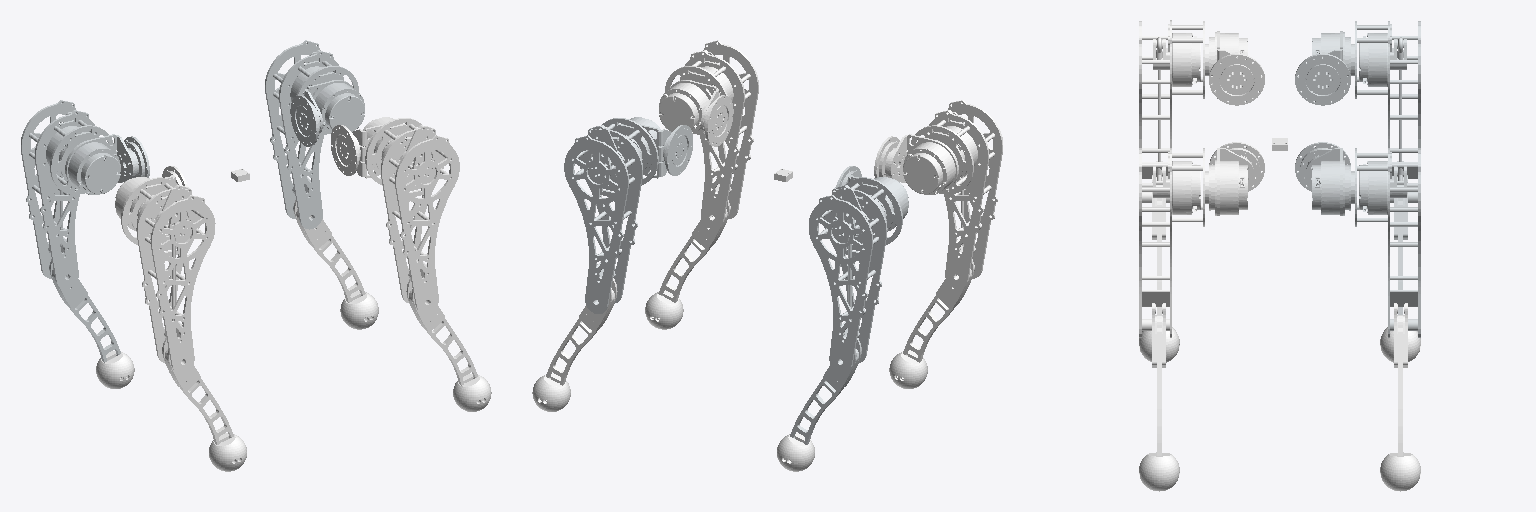
The robot description file, URDF, robot "newdog3":
<?xml version="1.0" encoding="utf-8"?>
<!-- This URDF was automatically created by SolidWorks to URDF Exporter! Originally created by Stephen Brawner (brawner@gmail.com) 
     Commit Version: 1.6.0-4-g7f85cfe  Build Version: 1.6.7995.38578
     For more information, please see http://wiki.ros.org/sw_urdf_exporter -->
<robot
  name="newdog3">
  <link
    name="base_link">
    <inertial>
      <origin
        xyz="3.33066907387547E-16 -1.52308721190764E-15 8.67361737988404E-19"
        rpy="0 0 0" />
      <mass
        value="0.001" />
      <inertia
        ixx="0.0000000"
        ixy="0.0000000"
        ixz="0.0000000"
        iyy="0.0000000"
        iyz="0.0000000"
        izz="0.0000000" />
    </inertial>
    <visual>
      <origin
        xyz="0 0 0"
        rpy="0 0 0" />
      <geometry>
        <mesh
          filename="package://newdog3/meshes/base_link.STL" />
      </geometry>
      <material
        name="">
        <color
          rgba="1 1 1 1" />
      </material>
    </visual>
    <collision>
      <origin
        xyz="0 0 0"
        rpy="0 0 0" />
      <geometry>
        <mesh
          filename="package://newdog3/meshes/base_link.STL" />
      </geometry>
    </collision>
  </link>
  <link
    name="trunk_link">
    <inertial>
      <origin
        xyz="-0.0009146 -0.0058859 -0.010167"
        rpy="0 0 0" />
      <mass
        value="4.6043039 " />
      <inertia
        ixx="0.0304155"
        ixy="-0.0001536"
        ixz="-0.0000979"
        iyy="0.0576475"
        iyz="0.0001516"
        izz="0.0768428" />
    </inertial>
    <visual>
      <origin
        xyz="0 0 0"
        rpy="0 0 0" />
      <geometry>
        <mesh
          filename="package://newdog3/meshes/trunk_link.STL" />
      </geometry>
      <material
        name="">
        <color
          rgba="0 1 1 1" />
      </material>
    </visual>
    <collision>
      <origin
        xyz="0 0 0"
        rpy="0 0 0" />
      <geometry>
        <mesh
          filename="package://newdog3/meshes/trunk_link.STL" />
      </geometry>
    </collision>
  </link>
  <joint
    name="trunk_joint"
    type="fixed">
    <origin
      xyz="0 0 0"
      rpy="0 0 0" />
    <parent
      link="base_link" />
    <child
      link="trunk_link" />
    <axis
      xyz="0 0 0" />
  </joint>
  <link
    name="FL_hip_link">
    <inertial>
      <origin
        xyz="-0.0276629050724061 0.016035850006281 -4.3485968049325E-05"
        rpy="0 0 0" />
      <mass
        value="1.0790672" />
      <inertia
        ixx="0.0008140"
        ixy="-0.0001481"
        ixz="-0.0000001"
        iyy="0.0015634"
        iyz="-0.0000034"
        izz="0.0013876" />
    </inertial>
    <visual>
      <origin
        xyz="0 0 0"
        rpy="0 0 0" />
      <geometry>
        <mesh
          filename="package://newdog3/meshes/FL_hip_link.STL" />
      </geometry>
      <material
        name="">
        <color
          rgba="0.898039215686275 0.917647058823529 0.929411764705882 1" />
      </material>
    </visual>
    <collision>
      <origin
        xyz="0 0 0"
        rpy="0 0 0" />
      <geometry>
        <mesh
          filename="package://newdog3/meshes/FL_hip_link.STL" />
      </geometry>
    </collision>
  </link>
  <joint
    name="FL_hip_joint"
    type="revolute">
    <origin
      xyz="0.219736600000002 0.0625499999999842 0"
      rpy="0 0 0" />
    <parent
      link="trunk_link" />
    <child
      link="FL_hip_link" />
    <axis
      xyz="1 0 0" />
    <limit
      lower="-3.14"
      upper="3.14"
      effort="100"
      velocity="100" />
  </joint>
  <link
    name="FL_thigh_link">
    <inertial>
      <origin
        xyz="0.00456710291272151 -0.0179791337832927 -0.0368158062623526"
        rpy="0 0 0" />
      <mass
        value="0.9731943" />
      <inertia
        ixx="0.0041173"
        ixy="0.0000197"
        ixz="-0.0000843"
        iyy="0.0037838"
        iyz="0.0005416"
        izz="0.0012491" />
    </inertial>
    <visual>
      <origin
        xyz="0 0 0"
        rpy="0 0 0" />
      <geometry>
        <mesh
          filename="package://newdog3/meshes/FL_thigh_link.STL" />
      </geometry>
      <material
        name="">
        <color
          rgba="0.898039215686275 0.917647058823529 0.929411764705882 1" />
      </material>
    </visual>
    <collision>
      <origin
        xyz="0 0 0"
        rpy="0 0 0" />
      <geometry>
        <mesh
          filename="package://newdog3/meshes/FL_thigh_link.STL" />
      </geometry>
    </collision>
  </link>
  <joint
    name="FL_thigh_joint"
    type="revolute">
    <origin
      xyz="-0.00667323245594807 0.113 -0.00459004315563583"
      rpy="0 0 0" />
    <parent
      link="FL_hip_link" />
    <child
      link="FL_thigh_link" />
    <axis
      xyz="0 1 0" />
    <limit
      lower="-3.14"
      upper="3.14"
      effort="100"
      velocity="100" />
  </joint>
  <link
    name="FL_calf_link">
    <inertial>
      <origin
        xyz="0.0296206423938686 -2.77555756156289E-17 -0.0533187681625656"
        rpy="0 0 0" />
      <mass
        value="0.1726436" />
      <inertia
        ixx="0.0006465"
        ixy="0.0000000"
        ixz="0.0003192"
        iyy="0.0008330"
        iyz="0.0000000"
        izz=" 0.0001963" />
    </inertial>
    <visual>
      <origin
        xyz="0 0 0"
        rpy="0 0 0" />
      <geometry>
        <mesh
          filename="package://newdog3/meshes/FL_calf_link.STL" />
      </geometry>
      <material
        name="">
        <color
          rgba="1 1 1 1" />
      </material>
    </visual>
    <collision>
      <origin
        xyz="0 0 0"
        rpy="0 0 0" />
      <geometry>
        <mesh
          filename="package://newdog3/meshes/FL_calf_link.STL" />
      </geometry>
    </collision>
  </link>
  <joint
    name="FL_calf_joint"
    type="revolute">
    <origin
      xyz="0.00667323245594791 0 -0.215359956844385"
      rpy="0 0 0" />
    <parent
      link="FL_thigh_link" />
    <child
      link="FL_calf_link" />
    <axis
      xyz="0 1 0" />
    <limit
      lower="-3.14"
      upper="3.14"
      effort="100"
      velocity="100" />
  </joint>
  <link
    name="FL_foot_link">
    <inertial>
      <origin
        xyz="-0.000434487402372369 -4.88152118440222E-05 0.00143083743892153"
        rpy="0 0 0" />
      <mass
        value="0.0347400" />
      <inertia
        ixx="0.0000126"
        ixy="0.0000000"
        ixz="-0.0000002"
        iyy=" 0.0000127"
        iyz="0.0000000"
        izz=" 0.0000134" />
    </inertial>
    <visual>
      <origin
        xyz="0 0 0"
        rpy="0 0 0" />
      <geometry>
        <mesh
          filename="package://newdog3/meshes/FL_foot_link.STL" />
      </geometry>
      <material
        name="">
        <color
          rgba="1 1 1 1" />
      </material>
    </visual>
    <collision>
      <origin
        xyz="0 0 0"
        rpy="0 0 0" />
      <geometry>
        <mesh
          filename="package://newdog3/meshes/FL_foot_link.STL" />
      </geometry>
    </collision>
  </link>
  <joint
    name="FL_foot_joint"
    type="fixed">
    <origin
      xyz="0.0973276095554549 0 -0.192474513805552"
      rpy="0 0 0" />
    <parent
      link="FL_calf_link" />
    <child
      link="FL_foot_link" />
    <axis
      xyz="0 0 0" />
  </joint>
  <link
    name="FR_hip_link">
    <inertial>
      <origin
        xyz="-0.0276628528131092 -0.0160358508109848 -4.34381982263267E-05"
        rpy="0 0 0" />
      <mass
        value="1.0790672 " />
      <inertia
        ixx="0.0008140"
        ixy="0.0001481"
        ixz="-0.0000001"
        iyy="0.0015634"
        iyz="0.0000034"
        izz="0.0013876" />
    </inertial>
    <visual>
      <origin
        xyz="0 0 0"
        rpy="0 0 0" />
      <geometry>
        <mesh
          filename="package://newdog3/meshes/FR_hip_link.STL" />
      </geometry>
      <material
        name="">
        <color
          rgba="1 1 1 1" />
      </material>
    </visual>
    <collision>
      <origin
        xyz="0 0 0"
        rpy="0 0 0" />
      <geometry>
        <mesh
          filename="package://newdog3/meshes/FR_hip_link.STL" />
      </geometry>
    </collision>
  </link>
  <joint
    name="FR_hip_joint"
    type="revolute">
    <origin
      xyz="0.219736600000002 -0.0625499999999764 0"
      rpy="0 0 0" />
    <parent
      link="trunk_link" />
    <child
      link="FR_hip_link" />
    <axis
      xyz="-1 0 0" />
    <limit
      lower="-3.14"
      upper="3.14"
      effort="100"
      velocity="100" />
  </joint>
  <link
    name="FR_thigh_link">
    <inertial>
      <origin
        xyz="-0.00907598859164387 0.0179687463771217 -0.0373303585833382"
        rpy="0 0 0" />
      <mass
        value="0.9703371" />
      <inertia
        ixx="0.0041041"
        ixy="-0.0000197"
        ixz="-0.0000830"
        iyy=" 0.0037681"
        iyz="-0.0005429"
        izz="0.0012468" />
    </inertial>
    <visual>
      <origin
        xyz="0 0 0"
        rpy="0 0 0" />
      <geometry>
        <mesh
          filename="package://newdog3/meshes/FR_thigh_link.STL" />
      </geometry>
      <material
        name="">
        <color
          rgba="1 1 1 1" />
      </material>
    </visual>
    <collision>
      <origin
        xyz="0 0 0"
        rpy="0 0 0" />
      <geometry>
        <mesh
          filename="package://newdog3/meshes/FR_thigh_link.STL" />
      </geometry>
    </collision>
  </link>
  <joint
    name="FR_thigh_joint"
    type="revolute">
    <origin
      xyz="0.00698064984559127 -0.112999999999983 -0.00411323907914265"
      rpy="0 0 0" />
    <parent
      link="FR_hip_link" />
    <child
      link="FR_thigh_link" />
    <axis
      xyz="0 1 0" />
    <limit
      lower="-3.14"
      upper="3.14"
      effort="100"
      velocity="100" />
  </joint>
  <link
    name="FR_calf_link">
    <inertial>
      <origin
        xyz="0.0297992449880792 -8.32667268468867E-17 -0.054421688746968"
        rpy="0 0 0" />
      <mass
        value="0.1716383 " />
      <inertia
        ixx="0.0005985"
        ixy=" 0.0000000"
        ixz="0.0003134"
        iyy="0.0007840"
        iyz="0.0000000"
        izz="0.0001953" />
    </inertial>
    <visual>
      <origin
        xyz="0 0 0"
        rpy="0 0 0" />
      <geometry>
        <mesh
          filename="package://newdog3/meshes/FR_calf_link.STL" />
      </geometry>
      <material
        name="">
        <color
          rgba="1 1 1 1" />
      </material>
    </visual>
    <collision>
      <origin
        xyz="0 0 0"
        rpy="0 0 0" />
      <geometry>
        <mesh
          filename="package://newdog3/meshes/FR_calf_link.STL" />
      </geometry>
    </collision>
  </link>
  <joint
    name="FR_calf_joint"
    type="revolute">
    <origin
      xyz="-0.00698064984559232 0 -0.215836760920878"
      rpy="0 0 0" />
    <parent
      link="FR_thigh_link" />
    <child
      link="FR_calf_link" />
    <axis
      xyz="0 1 0" />
    <limit
      lower="-3.14"
      upper="3.14"
      effort="100"
      velocity="100" />
  </joint>
  <link
    name="FR_foot_link">
    <inertial>
      <origin
        xyz="-0.000434485186104977 4.88181154815193E-05 0.00143083744507477"
        rpy="0 0 0" />
      <mass
        value="0.0347400" />
      <inertia
        ixx="0.0000126"
        ixy="0.0000000"
        ixz="-0.0000002"
        iyy="0.0000127"
        iyz="0.0000000"
        izz="0.0000134" />
    </inertial>
    <visual>
      <origin
        xyz="0 0 0"
        rpy="0 0 0" />
      <geometry>
        <mesh
          filename="package://newdog3/meshes/FR_foot_link.STL" />
      </geometry>
      <material
        name="">
        <color
          rgba="1 1 1 1" />
      </material>
    </visual>
    <collision>
      <origin
        xyz="0 0 0"
        rpy="0 0 0" />
      <geometry>
        <mesh
          filename="package://newdog3/meshes/FR_foot_link.STL" />
      </geometry>
    </collision>
  </link>
  <joint
    name="FR_foot_joint"
    type="fixed">
    <origin
      xyz="0.0973276004563029 0 -0.192474513795412"
      rpy="0 0 0" />
    <parent
      link="FR_calf_link" />
    <child
      link="FR_foot_link" />
    <axis
      xyz="0 0 0" />
  </joint>
  <link
    name="RL_hip_link">
    <inertial>
      <origin
        xyz="0.0275370203353626 0.0160358500062972 -4.34859680274475E-05"
        rpy="0 0 0" />
      <mass
        value="1.0790672" />
      <inertia
        ixx="0.0008140"
        ixy="0.0001473"
        ixz="-0.0000159"
        iyy="0.0015847"
        iyz="-0.0000034"
        izz="0.0014089" />
    </inertial>
    <visual>
      <origin
        xyz="0 0 0"
        rpy="0 0 0" />
      <geometry>
        <mesh
          filename="package://newdog3/meshes/RL_hip_link.STL" />
      </geometry>
      <material
        name="">
        <color
          rgba="0.898039215686275 0.917647058823529 0.929411764705882 1" />
      </material>
    </visual>
    <collision>
      <origin
        xyz="0 0 0"
        rpy="0 0 0" />
      <geometry>
        <mesh
          filename="package://newdog3/meshes/RL_hip_link.STL" />
      </geometry>
    </collision>
  </link>
  <joint
    name="RL_hip_joint"
    type="revolute">
    <origin
      xyz="-0.219736600000007 0.0625499999999842 0"
      rpy="0 0 0" />
    <parent
      link="trunk_link" />
    <child
      link="RL_hip_link" />
    <axis
      xyz="1 0 0" />
    <limit
      lower="-3.14"
      upper="3.14"
      effort="100"
      velocity="100" />
  </joint>
  <link
    name="RL_thigh_link">
    <inertial>
      <origin
        xyz="-0.00908550964681965 -0.0179606285310873 -0.0374506632844386"
        rpy="0 0 0" />
      <mass
        value="0.9736970" />
      <inertia
        ixx="0.0041329"
        ixy="0.0000197"
        ixz="- 0.0000842"
        iyy="0.0037992"
        iyz="0.0005436"
        izz="0.0012494" />
    </inertial>
    <visual>
      <origin
        xyz="0 0 0"
        rpy="0 0 0" />
      <geometry>
        <mesh
          filename="package://newdog3/meshes/RL_thigh_link.STL" />
      </geometry>
      <material
        name="">
        <color
          rgba="0.898039215686275 0.917647058823529 0.929411764705882 1" />
      </material>
    </visual>
    <collision>
      <origin
        xyz="0 0 0"
        rpy="0 0 0" />
      <geometry>
        <mesh
          filename="package://newdog3/meshes/RL_thigh_link.STL" />
      </geometry>
    </collision>
  </link>
  <joint
    name="RL_thigh_joint"
    type="revolute">
    <origin
      xyz="0.0069806498454601 0.113000000000016 -0.00411323907912106"
      rpy="0 0 0" />
    <parent
      link="RL_hip_link" />
    <child
      link="RL_thigh_link" />
    <axis
      xyz="0 1 0" />
    <limit
      lower="-3.14"
      upper="3.14"
      effort="100"
      velocity="100" />
  </joint>
  <link
    name="RL_calf_link">
    <inertial>
      <origin
        xyz="0.0297992449881553 2.77555756156289E-17 -0.0544216887469118"
        rpy="0 0 0" />
      <mass
        value="0.1716383" />
      <inertia
        ixx="0.0005985"
        ixy=" 0.0000000"
        ixz="0.0003134"
        iyy="0.0007840"
        iyz="0.0000000"
        izz="0.0001953" />
    </inertial>
    <visual>
      <origin
        xyz="0 0 0"
        rpy="0 0 0" />
      <geometry>
        <mesh
          filename="package://newdog3/meshes/RL_calf_link.STL" />
      </geometry>
      <material
        name="">
        <color
          rgba="0.898039215686275 0.917647058823529 0.929411764705882 1" />
      </material>
    </visual>
    <collision>
      <origin
        xyz="0 0 0"
        rpy="0 0 0" />
      <geometry>
        <mesh
          filename="package://newdog3/meshes/RL_calf_link.STL" />
      </geometry>
    </collision>
  </link>
  <joint
    name="RL_calf_joint"
    type="revolute">
    <origin
      xyz="-0.00698064984545294 0 -0.215836760920877"
      rpy="0 0 0" />
    <parent
      link="RL_thigh_link" />
    <child
      link="RL_calf_link" />
    <axis
      xyz="0 1 0" />
    <limit
      lower="-3.14"
      upper="3.14"
      effort="100"
      velocity="100" />
  </joint>
  <link
    name="RL_foot_link">
    <inertial>
      <origin
        xyz="-0.000434487402333511 -4.88152118440777E-05 0.00143083743895134"
        rpy="0 0 0" />
      <mass
        value="0.0347400 " />
      <inertia
        ixx=" 0.0000126"
        ixy="0.0000000"
        ixz="-0.0000002"
        iyy=" 0.0000127"
        iyz="0.0000000"
        izz="0.0000134" />
    </inertial>
    <visual>
      <origin
        xyz="0 0 0"
        rpy="0 0 0" />
      <geometry>
        <mesh
          filename="package://newdog3/meshes/RL_foot_link.STL" />
      </geometry>
      <material
        name="">
        <color
          rgba="1 1 1 1" />
      </material>
    </visual>
    <collision>
      <origin
        xyz="0 0 0"
        rpy="0 0 0" />
      <geometry>
        <mesh
          filename="package://newdog3/meshes/RL_foot_link.STL" />
      </geometry>
    </collision>
  </link>
  <joint
    name="RL_foot_joint"
    type="fixed">
    <origin
      xyz="0.0973276095554418 0 -0.192474513805559"
      rpy="0 0 0" />
    <parent
      link="RL_calf_link" />
    <child
      link="RL_foot_link" />
    <axis
      xyz="0 0 0" />
  </joint>
  <link
    name="RR_hip_link">
    <inertial>
      <origin
        xyz="0.0275370765101426 -0.0160358508110013 -4.34381982040962E-05"
        rpy="0 0 0" />
      <mass
        value="1.0790672" />
      <inertia
        ixx="0.0008140"
        ixy="-0.0001473"
        ixz="-0.0000159"
        iyy="0.0015847"
        iyz="0.0000034"
        izz="0.0014089" />
    </inertial>
    <visual>
      <origin
        xyz="0 0 0"
        rpy="0 0 0" />
      <geometry>
        <mesh
          filename="package://newdog3/meshes/RR_hip_link.STL" />
      </geometry>
      <material
        name="">
        <color
          rgba="1 1 1 1" />
      </material>
    </visual>
    <collision>
      <origin
        xyz="0 0 0"
        rpy="0 0 0" />
      <geometry>
        <mesh
          filename="package://newdog3/meshes/RR_hip_link.STL" />
      </geometry>
    </collision>
  </link>
  <joint
    name="RR_hip_joint"
    type="revolute">
    <origin
      xyz="-0.219736600000007 -0.0625499999999764 0"
      rpy="0 0 0" />
    <parent
      link="trunk_link" />
    <child
      link="RR_hip_link" />
    <axis
      xyz="1 0 0" />
    <limit
      lower="-3.14"
      upper="3.14"
      effort="100"
      velocity="100" />
  </joint>
  <link
    name="RR_thigh_link">
    <inertial>
      <origin
        xyz="-0.00907598859153536 0.0179687463770935 -0.0373303585833379"
        rpy="0 0 0" />
      <mass
        value="0.9703371" />
      <inertia
        ixx="0.0041041"
        ixy="-0.0000197"
        ixz="-0.0000830"
        iyy="0.0037681"
        iyz="-0.0005429"
        izz="0.0012468" />
    </inertial>
    <visual>
      <origin
        xyz="0 0 0"
        rpy="0 0 0" />
      <geometry>
        <mesh
          filename="package://newdog3/meshes/RR_thigh_link.STL" />
      </geometry>
      <material
        name="">
        <color
          rgba="1 1 1 1" />
      </material>
    </visual>
    <collision>
      <origin
        xyz="0 0 0"
        rpy="0 0 0" />
      <geometry>
        <mesh
          filename="package://newdog3/meshes/RR_thigh_link.STL" />
      </geometry>
    </collision>
  </link>
  <joint
    name="RR_thigh_joint"
    type="revolute">
    <origin
      xyz="0.0069806498454813 -0.112999999999957 -0.00411323907912034"
      rpy="0 0 0" />
    <parent
      link="RR_hip_link" />
    <child
      link="RR_thigh_link" />
    <axis
      xyz="0 1 0" />
    <limit
      lower="-3.14"
      upper="3.14"
      effort="100"
      velocity="100" />
  </joint>
  <link
    name="RR_calf_link">
    <inertial>
      <origin
        xyz="0.0297992449880768 4.33264535359967E-14 -0.0544216887469677"
        rpy="0 0 0" />
      <mass
        value="0.1716383 " />
      <inertia
        ixx="0.0005985"
        ixy="0.0000000"
        ixz="0.0003134"
        iyy="0.0007840"
        iyz="0.0000000"
        izz="0.0001953" />
    </inertial>
    <visual>
      <origin
        xyz="0 0 0"
        rpy="0 0 0" />
      <geometry>
        <mesh
          filename="package://newdog3/meshes/RR_calf_link.STL" />
      </geometry>
      <material
        name="">
        <color
          rgba="1 1 1 1" />
      </material>
    </visual>
    <collision>
      <origin
        xyz="0 0 0"
        rpy="0 0 0" />
      <geometry>
        <mesh
          filename="package://newdog3/meshes/RR_calf_link.STL" />
      </geometry>
    </collision>
  </link>
  <joint
    name="RR_calf_joint"
    type="revolute">
    <origin
      xyz="-0.00698064984547542 0 -0.215836760920878"
      rpy="0 0 0" />
    <parent
      link="RR_thigh_link" />
    <child
      link="RR_calf_link" />
    <axis
      xyz="0 1 0" />
    <limit
      lower="-3.14"
      upper="3.14"
      effort="100"
      velocity="100" />
  </joint>
  <link
    name="RR_foot_link">
    <inertial>
      <origin
        xyz="-0.000434485186105227 4.88181155248735E-05 0.00143083744507583"
        rpy="0 0 0" />
      <mass
        value="0.0347400 " />
      <inertia
        ixx="0.0000126"
        ixy="0.0000000"
        ixz="-0.0000002"
        iyy="0.0000127"
        iyz="0.0000000"
        izz="0.0000134" />
    </inertial>
    <visual>
      <origin
        xyz="0 0 0"
        rpy="0 0 0" />
      <geometry>
        <mesh
          filename="package://newdog3/meshes/RR_foot_link.STL" />
      </geometry>
      <material
        name="">
        <color
          rgba="1 1 1 1" />
      </material>
    </visual>
    <collision>
      <origin
        xyz="0 0 0"
        rpy="0 0 0" />
      <geometry>
        <mesh
          filename="package://newdog3/meshes/RR_foot_link.STL" />
      </geometry>
    </collision>
  </link>
  <joint
    name="RR_foot_joint"
    type="fixed">
    <origin
      xyz="0.0973276004563028 0 -0.192474513795412"
      rpy="0 0 0" />
    <parent
      link="RR_calf_link" />
    <child
      link="RR_foot_link" />
    <axis
      xyz="0 0 0" />
  </joint>
  <link
    name="imu_link">
    <inertial>
      <origin
        xyz="-0.000126771762738301 2.74086309204336E-16 -0.0330000000000001"
        rpy="0 0 0" />
      <mass
        value="0.0080000 " />
      <inertia
        ixx="0.0000004"
        ixy=" 0.0000000"
        ixz=" 0.0000000"
        iyy=" 0.0000004"
        iyz="0.0000000"
        izz="0.0000006" />
    </inertial>
    <visual>
      <origin
        xyz="0 0 0"
        rpy="0 0 0" />
      <geometry>
        <mesh
          filename="package://newdog3/meshes/imu_link.STL" />
      </geometry>
      <material
        name="">
        <color
          rgba="1 1 1 1" />
      </material>
    </visual>
    <collision>
      <origin
        xyz="0 0 0"
        rpy="0 0 0" />
      <geometry>
        <mesh
          filename="package://newdog3/meshes/imu_link.STL" />
      </geometry>
    </collision>
  </link>
  <joint
    name="imu_joint"
    type="fixed">
    <origin
      xyz="0 0 0"
      rpy="0 0 0" />
    <parent
      link="trunk_link" />
    <child
      link="imu_link" />
    <axis
      xyz="0 0 0" />
  </joint>
</robot>

--- Facts derived from the render (not from the file) ---
Views: 3 orthographic renders of the robot side by side, from view 1: azimuth 30°, elevation 25°; view 2: azimuth 150°, elevation 25°; view 3: azimuth 270°, elevation 25°.
Model newdog3 with 19 links and 18 joints (12 revolute, 6 fixed), rooted at base_link, posed all joints at 0.
Links seen in each view (by area): view 1: FR_thigh_link, RR_thigh_link, RL_thigh_link, FL_thigh_link, RL_hip_link, FL_hip_link, FR_hip_link, RR_calf_link, FR_calf_link, FL_calf_link, RL_calf_link, FL_foot_link (+4 smaller); view 2: RL_thigh_link, FL_thigh_link, RR_thigh_link, FR_thigh_link, RR_hip_link, FR_hip_link, FL_hip_link, RL_calf_link, FL_calf_link, FR_calf_link, RR_calf_link, FR_foot_link (+4 smaller); view 3: FR_thigh_link, FL_thigh_link, RR_thigh_link, RL_thigh_link, FL_hip_link, FR_hip_link, RL_hip_link, RR_hip_link, FL_foot_link, FR_foot_link, FL_calf_link, FR_calf_link (+4 smaller).
Boxes of the visible links, box(x1,y1,x2,y2) form: FR_thigh_link: box(365, 118, 459, 313); RR_thigh_link: box(121, 177, 215, 373); RL_thigh_link: box(21, 100, 112, 288); FL_thigh_link: box(265, 40, 358, 229); RL_hip_link: box(65, 134, 149, 194); FL_hip_link: box(290, 80, 364, 146); FR_hip_link: box(331, 117, 400, 178); RR_calf_link: box(162, 338, 233, 444); FR_calf_link: box(406, 278, 477, 385); FL_calf_link: box(294, 200, 365, 302); RL_calf_link: box(50, 259, 120, 362); FL_foot_link: box(340, 291, 378, 329); RL_thigh_link: box(809, 177, 902, 373); FL_thigh_link: box(564, 118, 658, 313); RR_thigh_link: box(911, 100, 1002, 288); FR_thigh_link: box(665, 40, 758, 229); RR_hip_link: box(874, 134, 958, 194); FR_hip_link: box(659, 80, 733, 146); FL_hip_link: box(623, 117, 692, 178); RL_calf_link: box(790, 338, 861, 444); FL_calf_link: box(546, 278, 617, 385); FR_calf_link: box(658, 200, 729, 302); RR_calf_link: box(903, 259, 973, 362); FR_foot_link: box(645, 291, 683, 329); FR_thigh_link: box(1139, 148, 1208, 337); FL_thigh_link: box(1351, 148, 1420, 337); RR_thigh_link: box(1139, 20, 1208, 202); RL_thigh_link: box(1351, 21, 1420, 202); FL_hip_link: box(1295, 142, 1350, 215); FR_hip_link: box(1209, 142, 1264, 215); RL_hip_link: box(1295, 31, 1350, 105); RR_hip_link: box(1209, 31, 1264, 105); FL_foot_link: box(1380, 452, 1420, 491); FR_foot_link: box(1139, 452, 1179, 491); FL_calf_link: box(1394, 174, 1407, 455); FR_calf_link: box(1152, 303, 1165, 455).
Size in the robot's own frame: 0.6235 by 0.411 by 0.5016 metres.
Meshes: 19 distinct files referenced, 17 mesh visuals loaded (17 binary STL); not drawn: 2 (reference not matched to a file when rendering).
